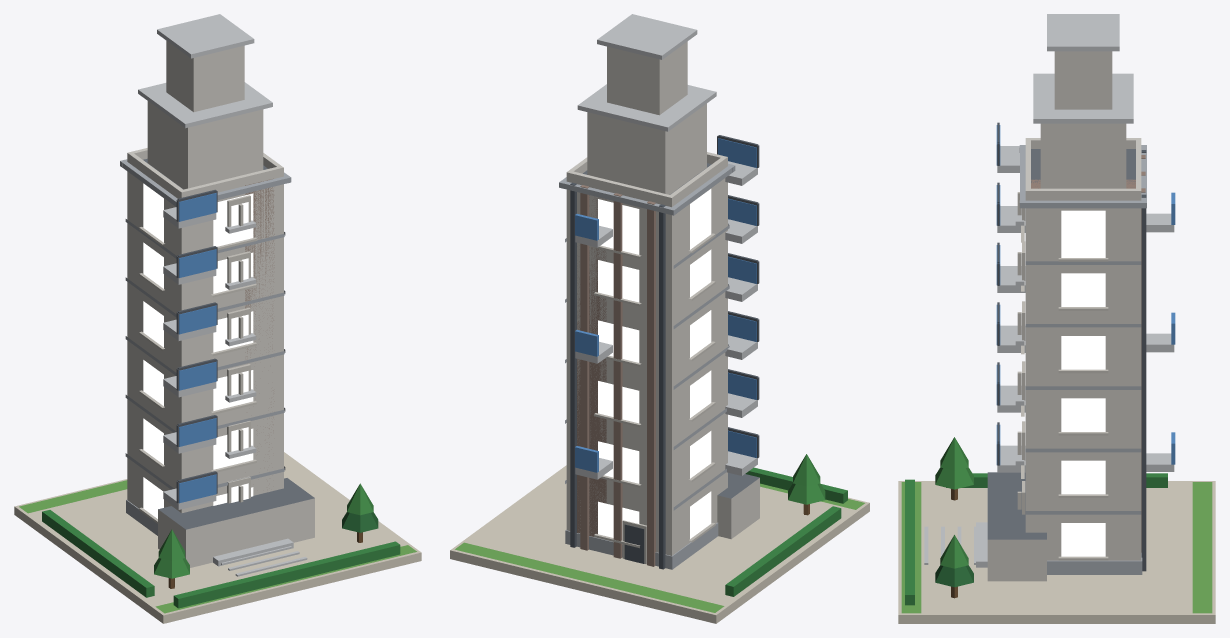
3 views of the same model, side by side, from view 1: azimuth 30°, elevation 25°; view 2: azimuth 150°, elevation 25°; view 3: azimuth 270°, elevation 25° (orthographic). The views are drawn at different scales.
Parts seen in each view (by area): view 1: b07; view 2: b07; view 3: b07.
Part boxes in pixels (<box>): b07: <box>14,14,421,623</box>; b07: <box>450,14,869,623</box>; b07: <box>898,14,1215,623</box>.
Bounding box in the file's own units: 0.96 × 1.76 × 0.96.
